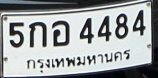num5: (8, 21, 25, 49)
txt01: (28, 21, 48, 49)
txt38: (51, 19, 71, 48)
